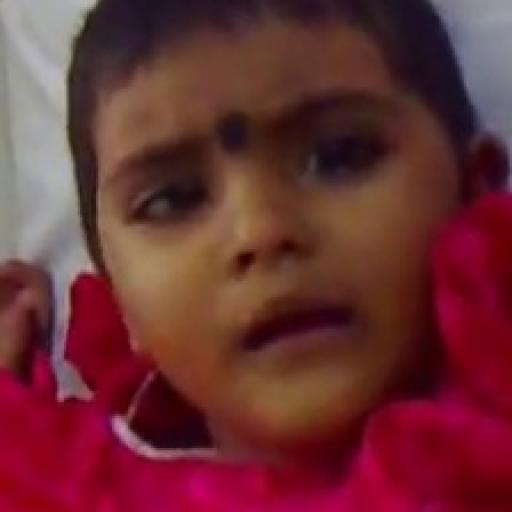Autism: (83, 29, 500, 484)
